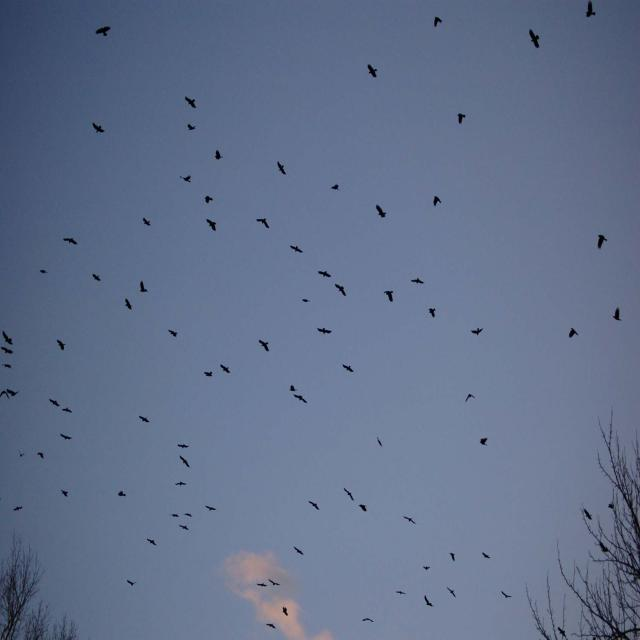bird: (526, 28, 541, 49), (94, 25, 112, 39), (2, 386, 20, 400), (333, 281, 348, 297), (366, 62, 379, 80), (342, 486, 356, 502), (585, 2, 597, 20), (91, 122, 106, 136), (0, 331, 14, 346), (205, 218, 218, 234), (179, 454, 193, 468), (258, 339, 272, 353), (375, 204, 388, 219), (256, 219, 271, 232), (422, 592, 434, 608), (383, 290, 395, 306), (595, 234, 607, 250), (316, 326, 332, 338), (185, 96, 198, 110), (276, 161, 288, 176), (293, 394, 308, 406), (612, 306, 623, 322), (341, 364, 355, 376), (290, 243, 305, 254), (137, 279, 148, 294), (167, 328, 179, 341), (293, 546, 306, 558), (56, 338, 67, 352), (316, 269, 330, 280), (124, 298, 135, 312), (433, 16, 444, 30), (455, 113, 466, 127), (402, 514, 417, 524), (62, 238, 78, 247), (308, 502, 320, 514), (140, 218, 152, 230), (465, 393, 477, 405), (220, 365, 233, 376), (212, 150, 223, 163), (471, 327, 484, 338), (569, 328, 580, 341), (410, 276, 424, 286), (0, 345, 14, 355), (50, 398, 61, 410), (478, 436, 489, 448), (182, 173, 194, 184), (137, 414, 150, 424), (174, 479, 187, 489), (204, 504, 217, 514), (447, 550, 457, 563), (267, 579, 280, 589), (446, 587, 457, 598), (358, 503, 369, 514), (91, 272, 102, 283), (203, 195, 214, 206), (289, 382, 300, 393), (362, 616, 374, 626), (433, 196, 443, 208), (280, 606, 290, 618), (426, 307, 436, 319), (186, 123, 198, 133), (59, 433, 72, 442), (0, 362, 13, 371), (176, 442, 189, 451), (502, 590, 513, 600), (61, 405, 72, 415), (375, 438, 385, 449), (266, 622, 278, 631), (202, 370, 214, 379), (117, 489, 127, 499), (331, 184, 341, 194), (60, 488, 70, 498), (481, 551, 491, 561), (40, 268, 50, 278), (148, 538, 158, 548), (13, 506, 24, 515), (177, 523, 188, 532), (185, 511, 195, 520), (126, 579, 136, 588), (300, 298, 311, 306), (396, 589, 407, 597), (38, 451, 47, 460), (170, 512, 180, 520), (258, 582, 269, 589), (421, 566, 430, 574), (16, 452, 24, 459)
